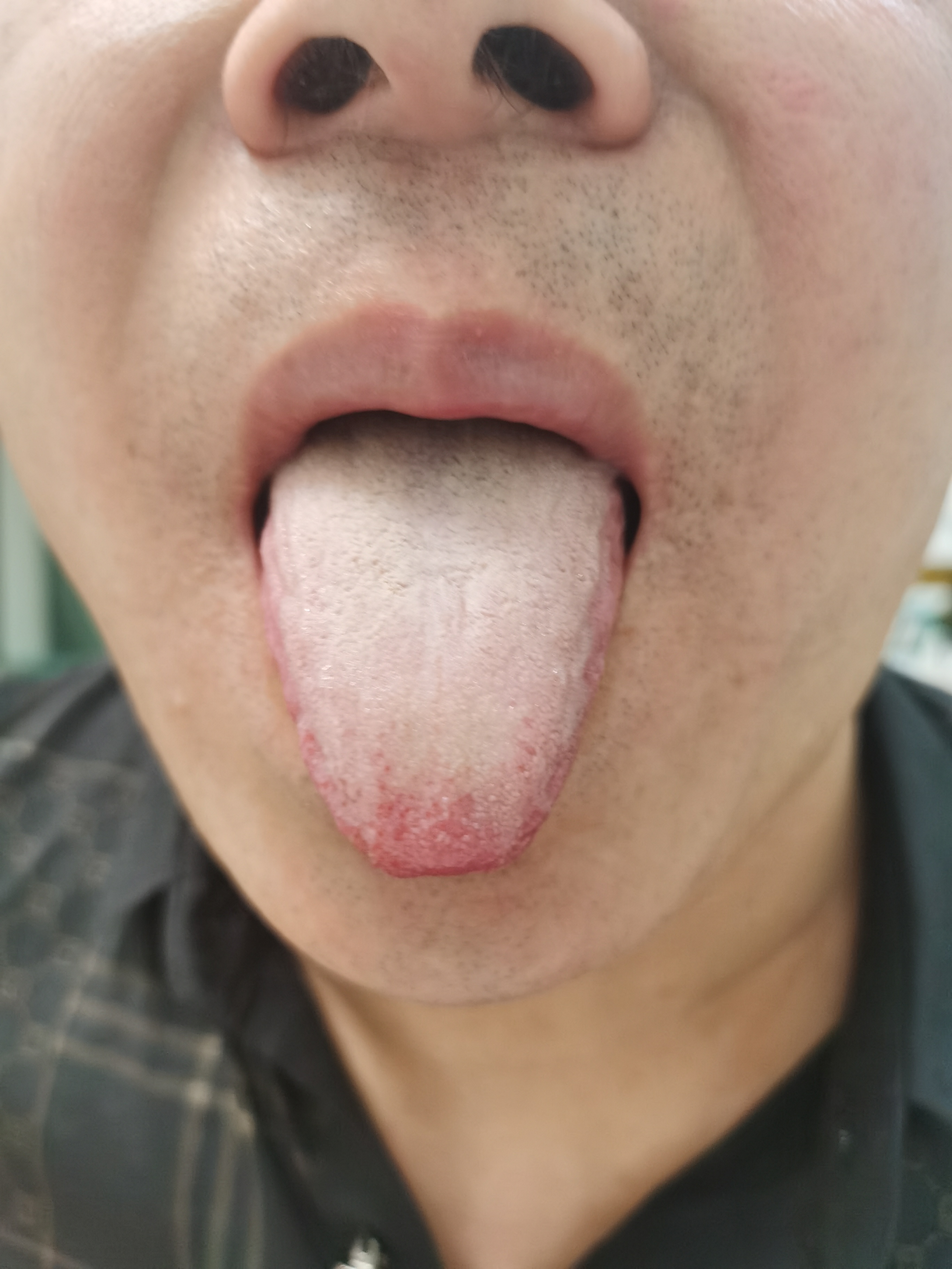baitaishe: (260, 421, 623, 876)
hongshe: (260, 420, 622, 876)
